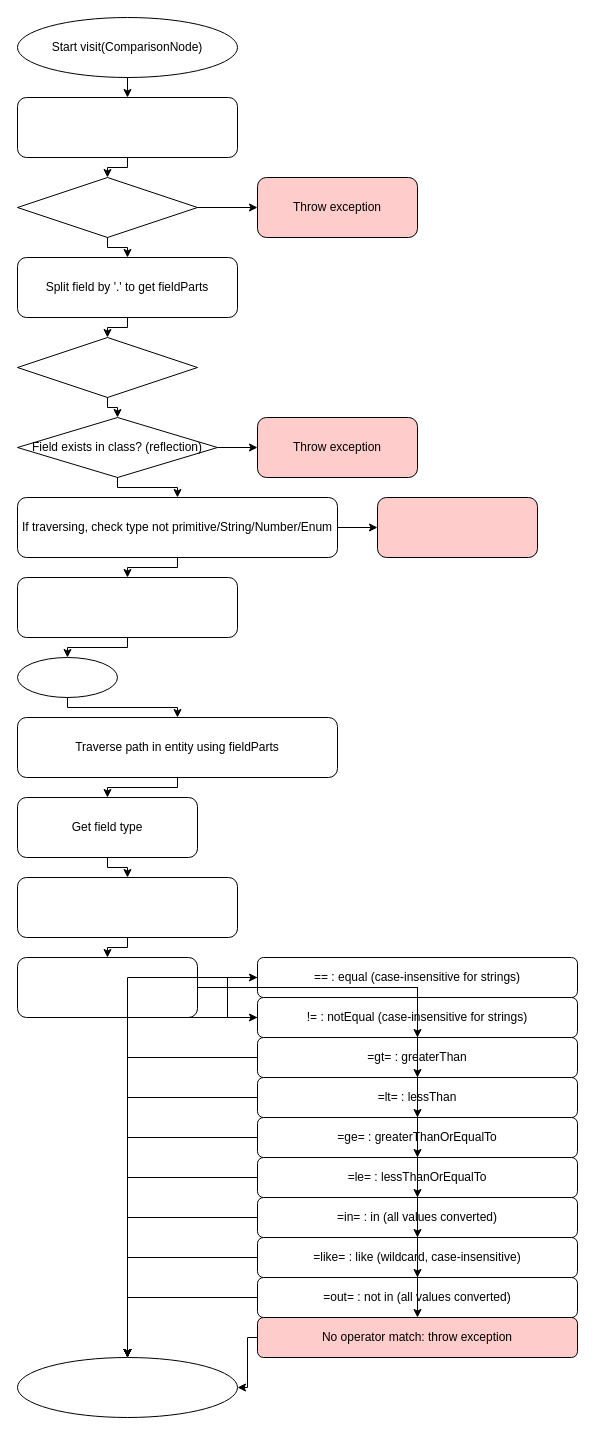
The diagram is 595 pixels wide and 1435 high, and some of its shapes have lost their labels. The shapes that lost their labels are listed below. From the top down, each one's box as (x1, y1, x2, y2) in pixels, then its label:
(16, 96, 238, 158): Extract field, operator, values
(16, 176, 198, 238): Check operator supported?
(16, 336, 198, 398): For each part in fieldParts
(376, 496, 538, 558): If invalid, throw exception
(16, 576, 238, 638): Update currentClass to field type
(16, 656, 118, 698): End For
(16, 876, 238, 938): Convert value(s) to correct type
(16, 956, 198, 1018): Operator switch/case
(16, 1356, 238, 1418): Return built predicate/specification
